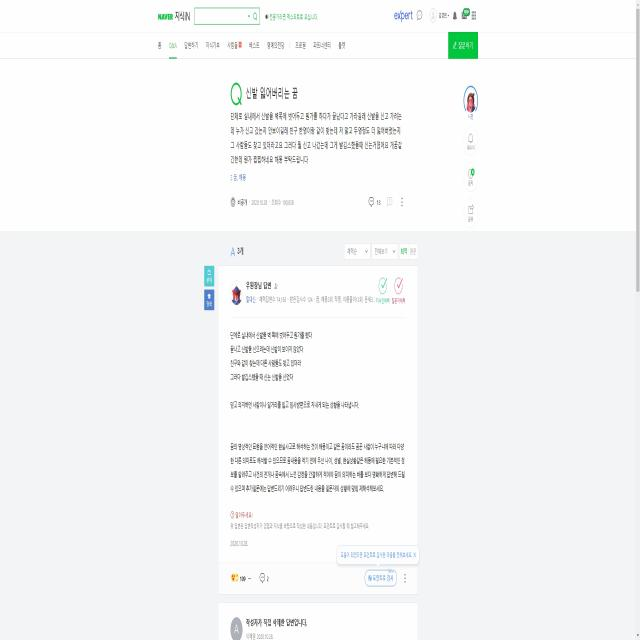menu-bar: (428, 7, 480, 28)
search: (193, 5, 260, 26)
side-panel: (460, 80, 480, 229)
tab-bar: (154, 34, 354, 57)
